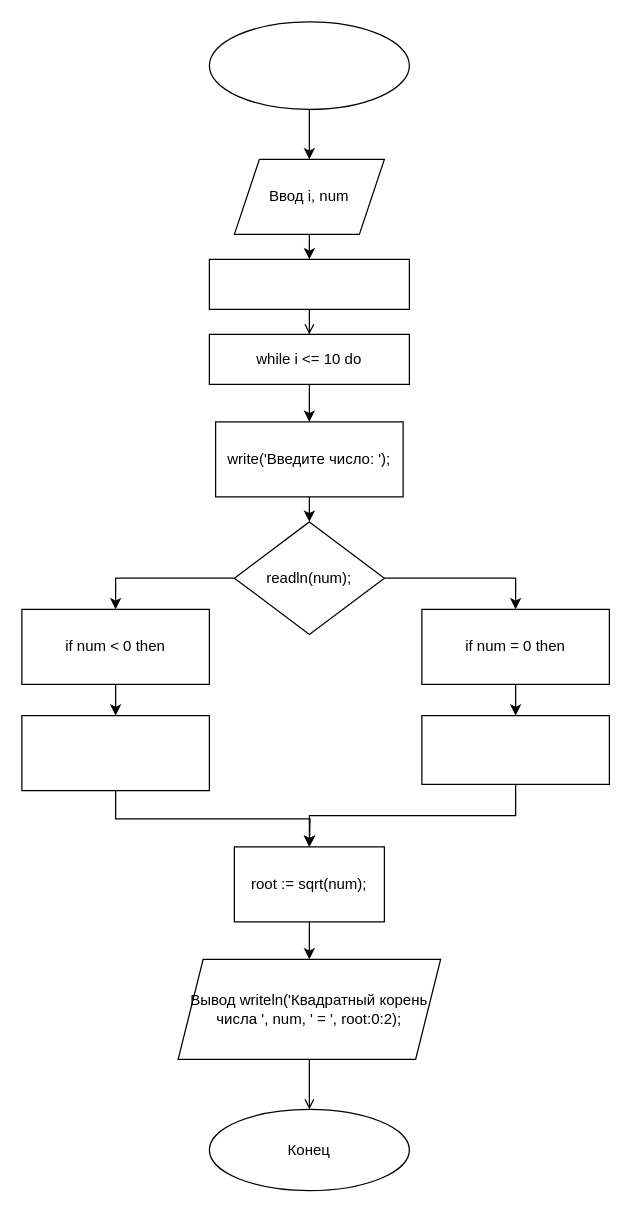
Some shapes in this 631 by 1213 pixel diagram are drawn without their labels. Each missing label, with the centre of its shape:
i := 1;: the point at 308,283
writeln('Вы ввели ноль. Программа завершена.');: the point at 515,749
writeln('Число отрицательное. Продолжаем дальше.');: the point at 115,752
Начало: the point at 308,65
